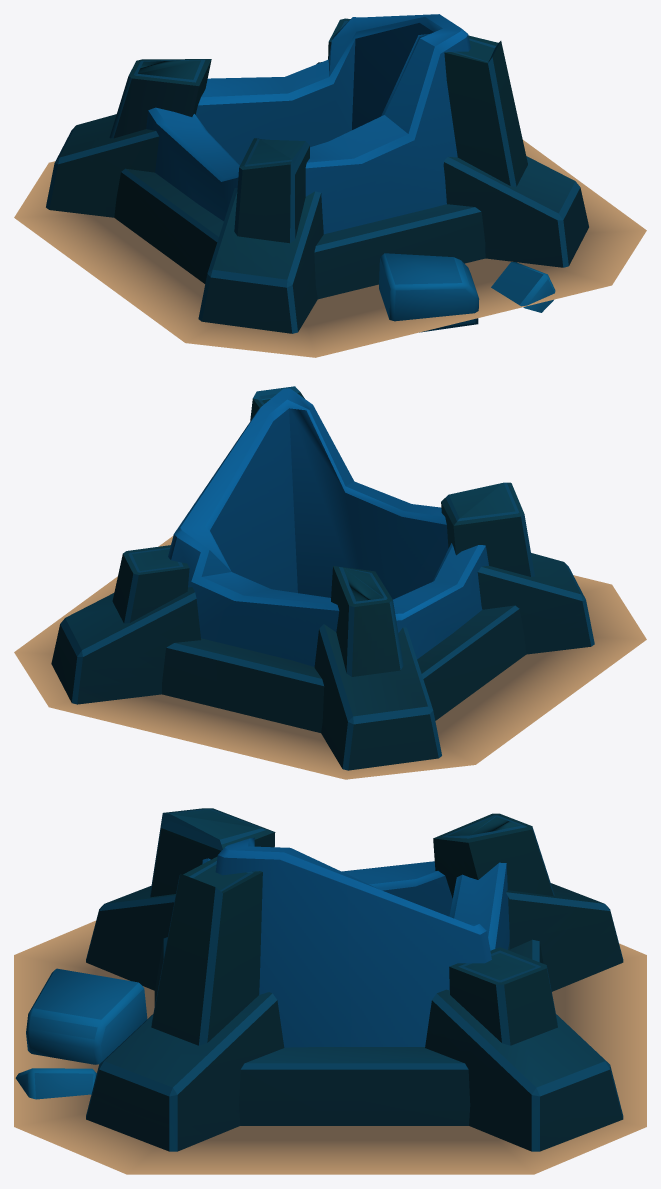
File: Tower_Small.fbx
3 renders of one model, top to bottom at view 1: azimuth 30°, elevation 25°; view 2: azimuth 150°, elevation 25°; view 3: azimuth 270°, elevation 25°, orthographic. The views are drawn at different scales.
Visible parts, largest first — view 1: Tower_Small; view 2: Tower_Small; view 3: Tower_Small.
Part boxes in pixels (<box>): Tower_Small: <box>14,14,646,357</box>; Tower_Small: <box>14,386,646,779</box>; Tower_Small: <box>14,808,646,1174</box>.
Size of the model in its own units: 4799 by 2205 by 4799.
